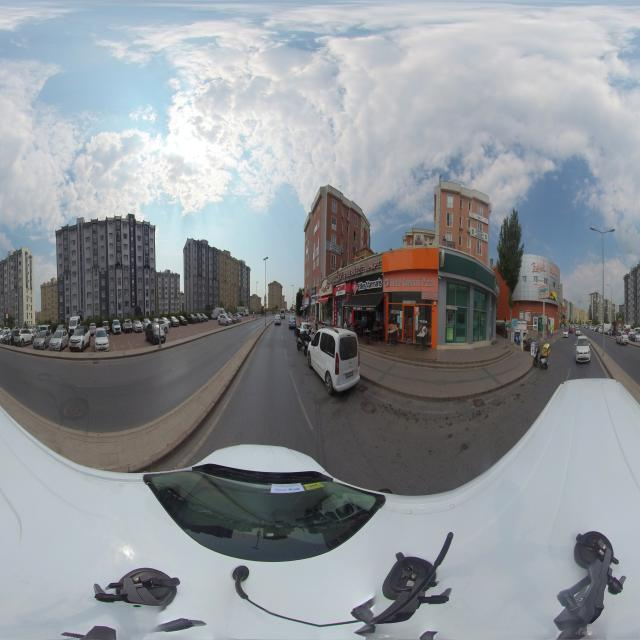SignStore: (333, 255, 382, 286), (384, 270, 438, 292), (352, 273, 383, 296), (470, 227, 488, 242), (469, 211, 488, 224), (336, 283, 346, 296), (443, 240, 455, 249), (323, 285, 328, 293), (311, 288, 315, 296), (315, 295, 320, 301), (311, 296, 315, 303)
